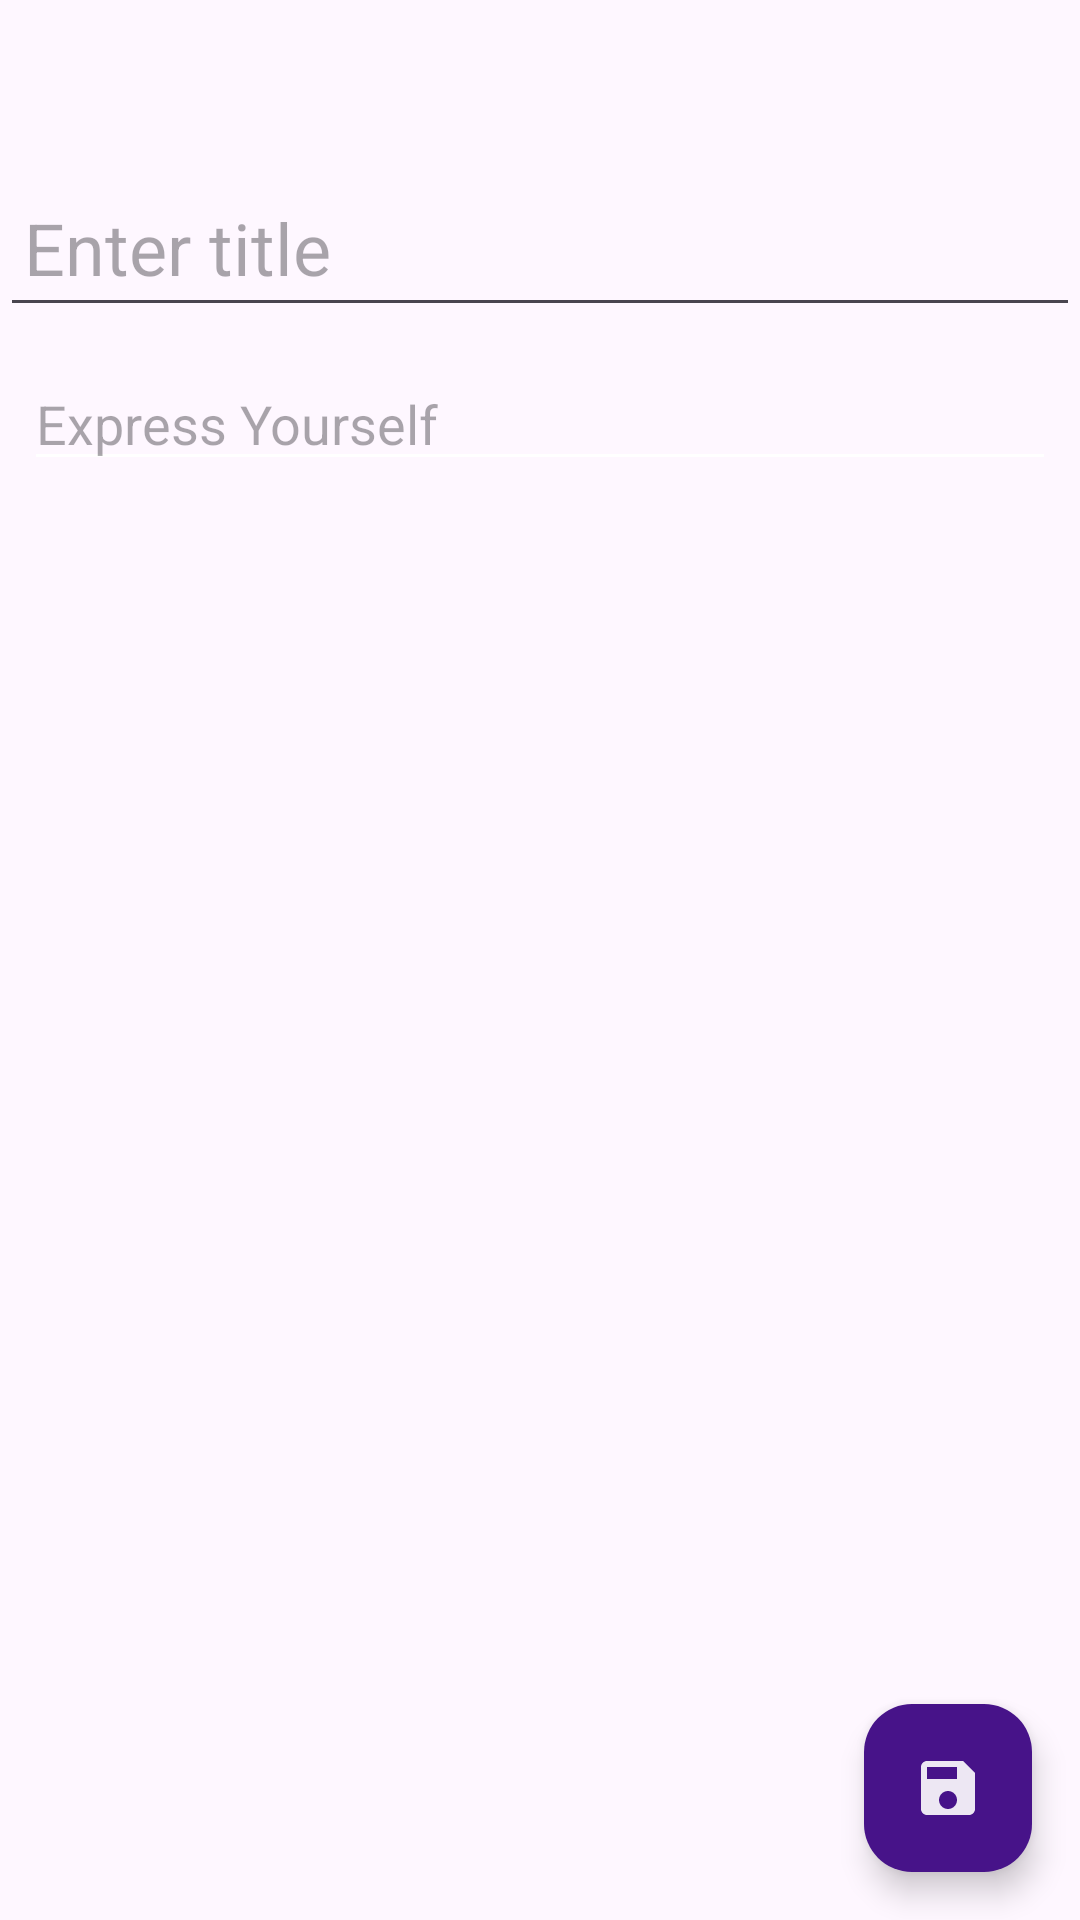

Icon bounding boxes for this 1080w x 1920h phone screenshot, format (x1, y1, x2, y2):
save: (864, 1704, 1032, 1872)
